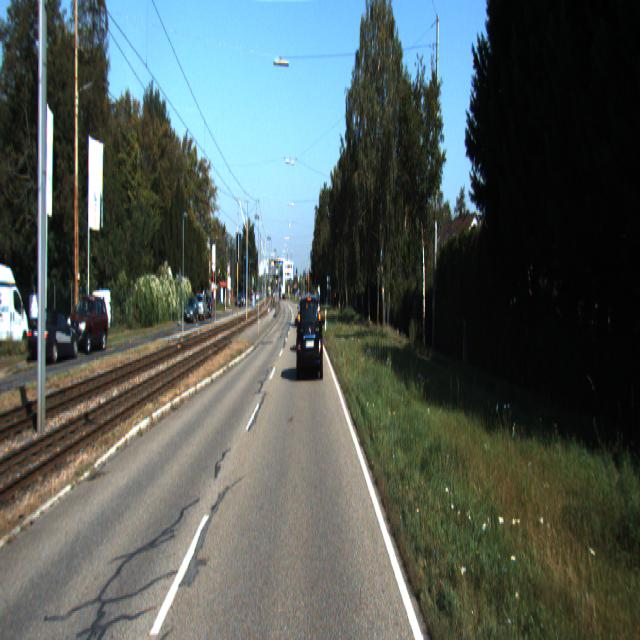Car: (27, 306, 80, 368), (0, 261, 33, 360), (67, 297, 109, 357), (296, 292, 324, 380), (85, 284, 116, 334), (184, 296, 200, 324), (196, 291, 210, 320)
